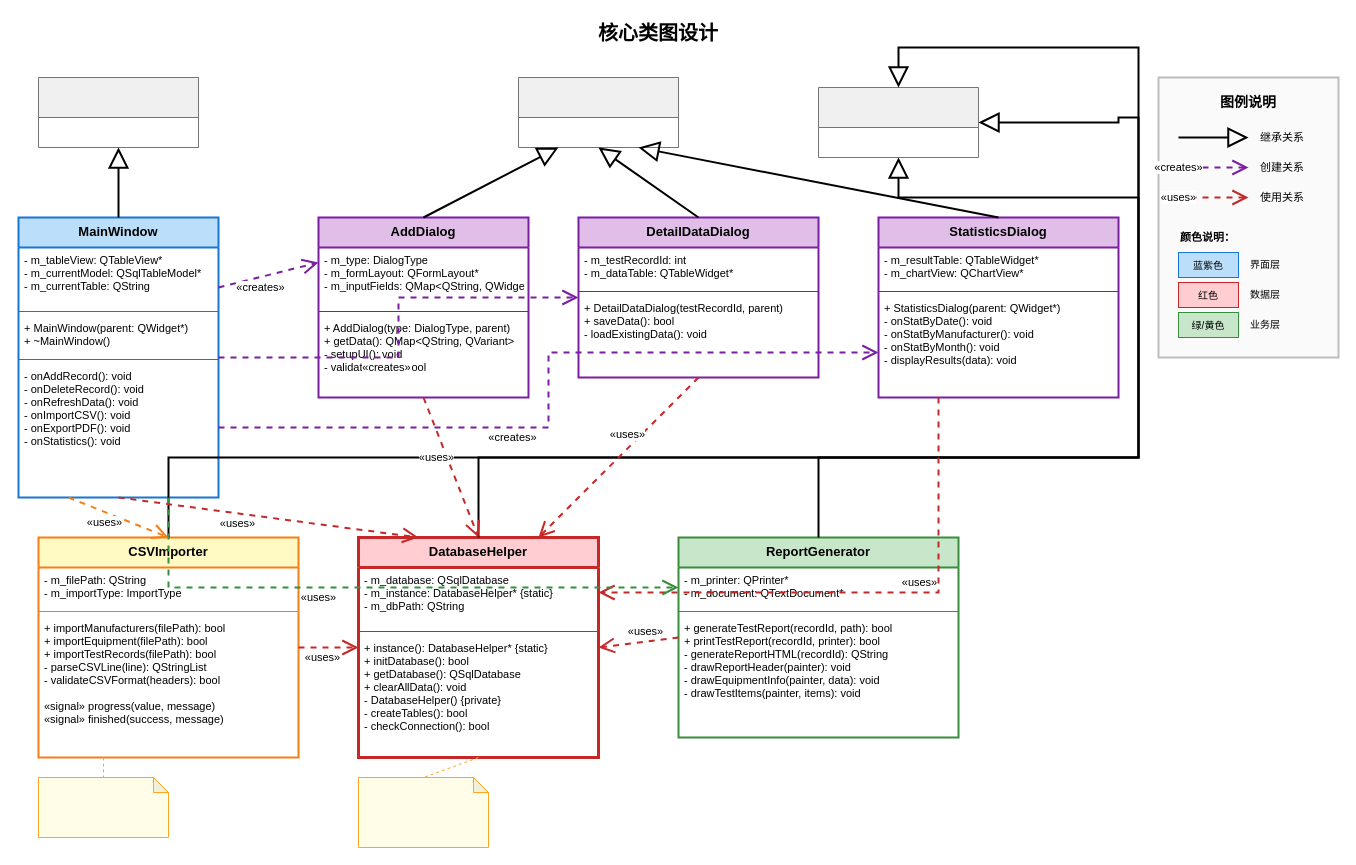
Some shapes in this 1356 by 865 pixel diagram are drawn without their labels. The centre of each missing label's shape, as x and y in pixels:
"«Qt» QDialog" goes at (598,112).
"«Qt» QMainWindow" goes at (118,112).
"«Qt» QObject" goes at (898,122).
"«单例模式» 统一管理数据库 连接和操作" goes at (423,812).
"主控制器 协调各模块协同工作" goes at (103,807).
